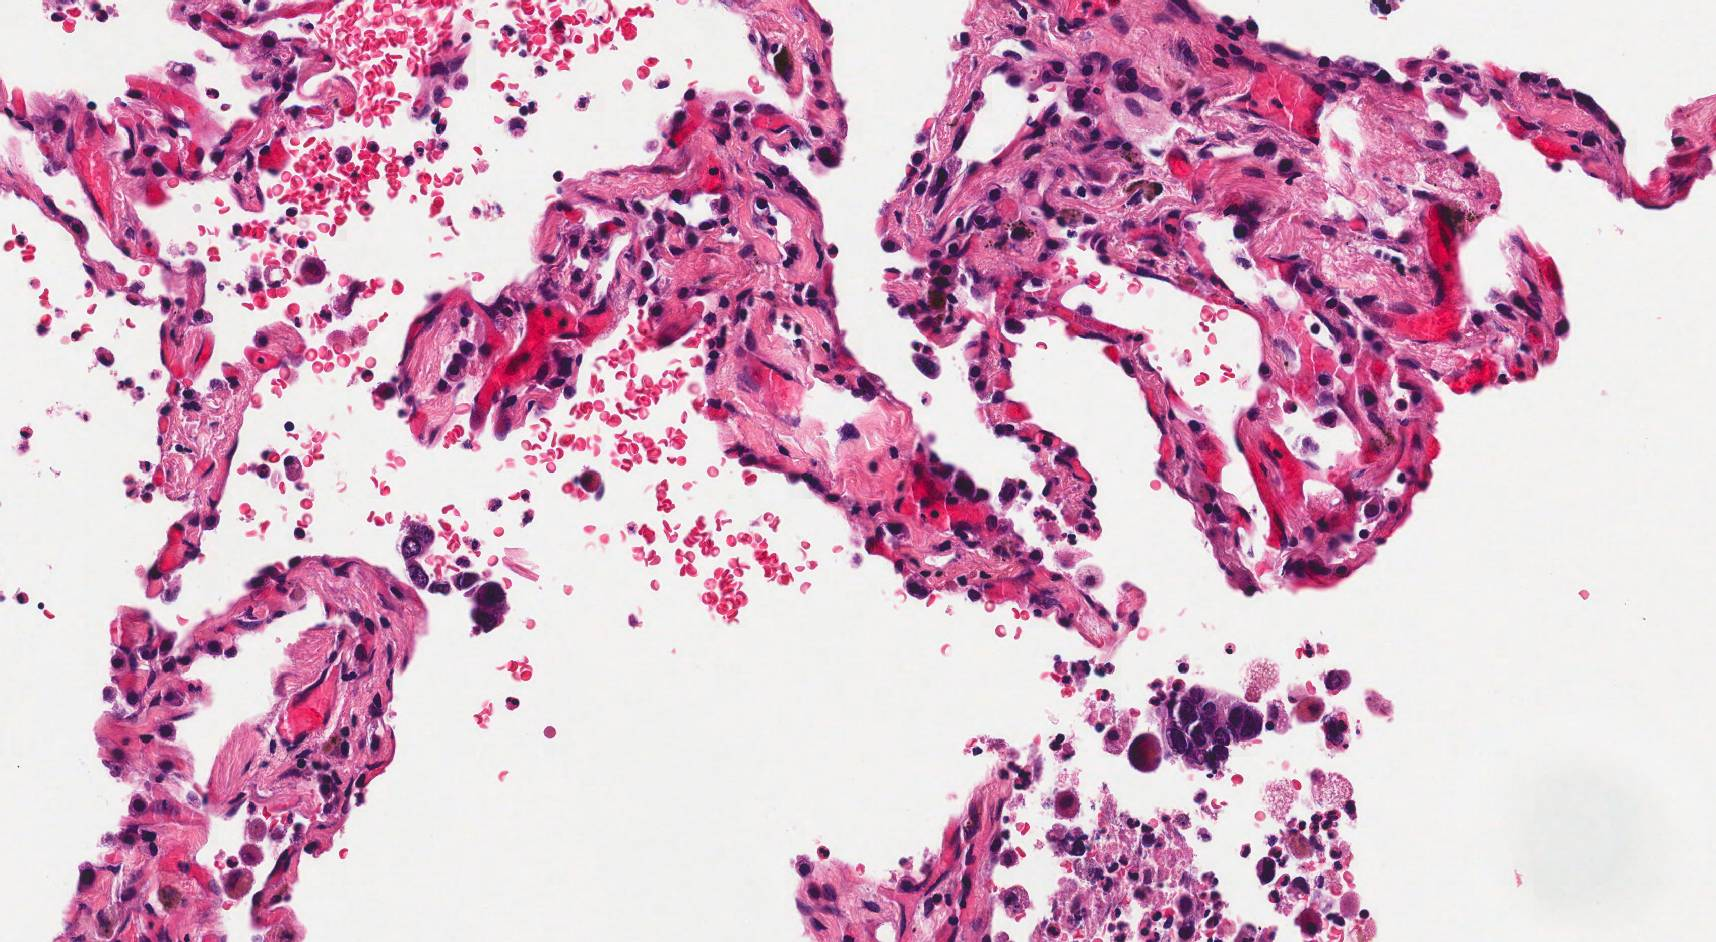stas: (401, 521, 510, 639), (1153, 680, 1261, 776)
